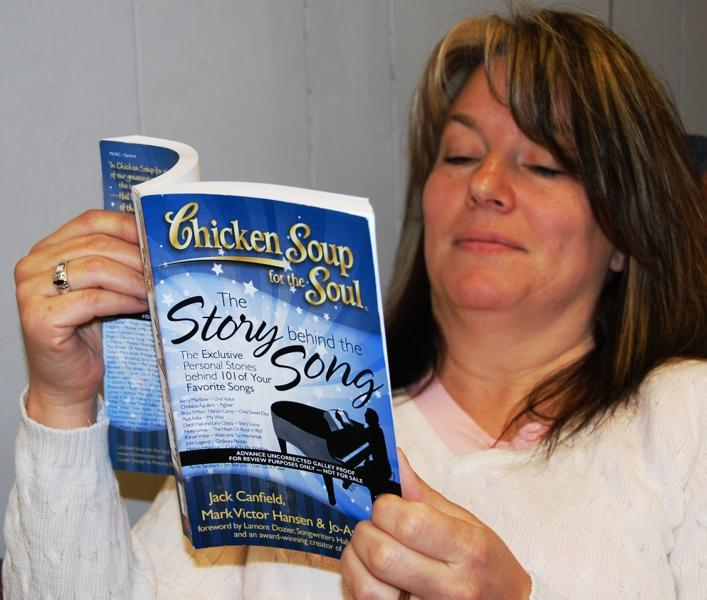person: (4, 10, 707, 600)
